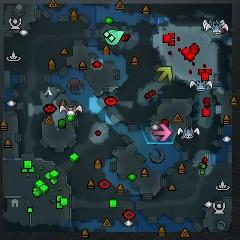p2: (104, 29, 124, 45)
x1: (153, 123, 172, 141)
x2: (157, 66, 173, 82)
